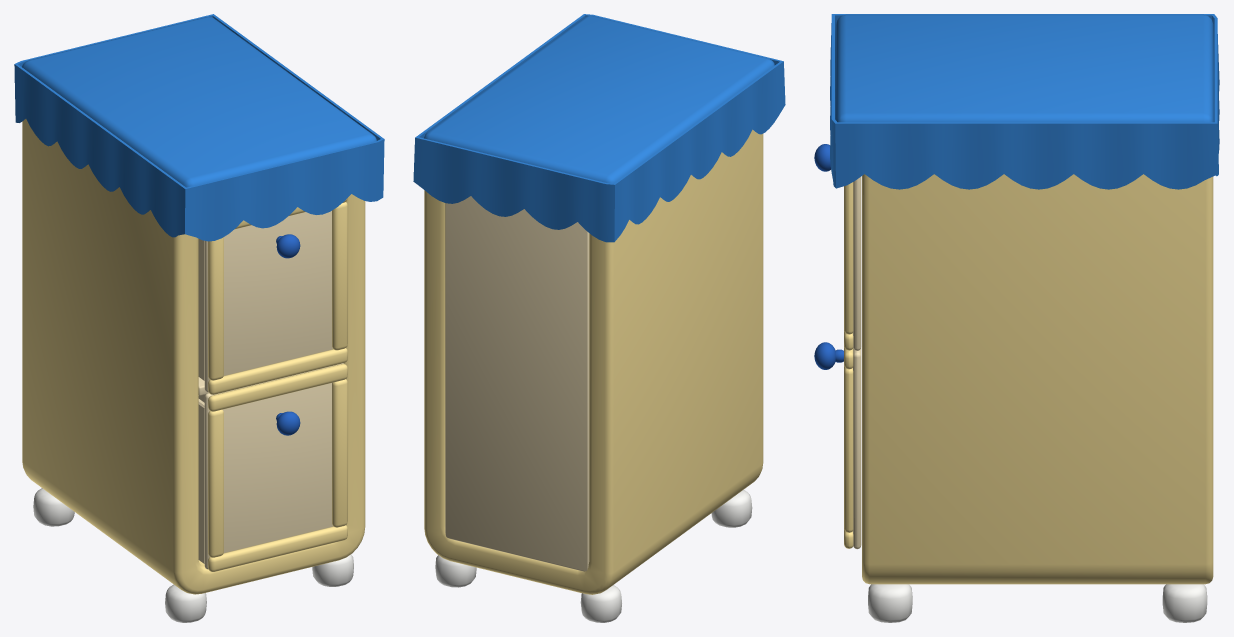
File: gaveteiro_cozinha_2gavetas_campestre_azul.glb
The picture shows the model from 3 angles, left to right: view 1: azimuth 30°, elevation 25°; view 2: azimuth 150°, elevation 25°; view 3: azimuth 270°, elevation 25°; orthographic projection. The views are drawn at different scales.
Parts seen in each view (by area): view 1: gaveteiro_cozinha_2gavetas_campestre_azul, gaveta_2, gaveta_1; view 2: gaveteiro_cozinha_2gavetas_campestre_azul; view 3: gaveteiro_cozinha_2gavetas_campestre_azul, gaveta_2, gaveta_1.
Boxes of the visible parts, x1,y1,x2,y2 form: gaveteiro_cozinha_2gavetas_campestre_azul: (14, 14, 384, 622); gaveta_2: (198, 363, 347, 571); gaveta_1: (198, 198, 347, 394); gaveteiro_cozinha_2gavetas_campestre_azul: (413, 14, 785, 622); gaveteiro_cozinha_2gavetas_campestre_azul: (830, 14, 1219, 622); gaveta_2: (814, 342, 861, 549); gaveta_1: (814, 144, 861, 350).
Bounding box in the file's own units: 0.418 × 0.9 × 0.6436.
1 material, 1 textured.
